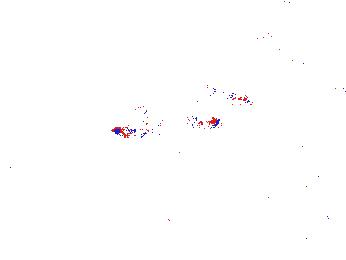glassfish: (131, 103, 187, 174), (123, 202, 178, 229)
red belly glassfish: (207, 85, 253, 109), (186, 112, 224, 133), (110, 126, 152, 141)
